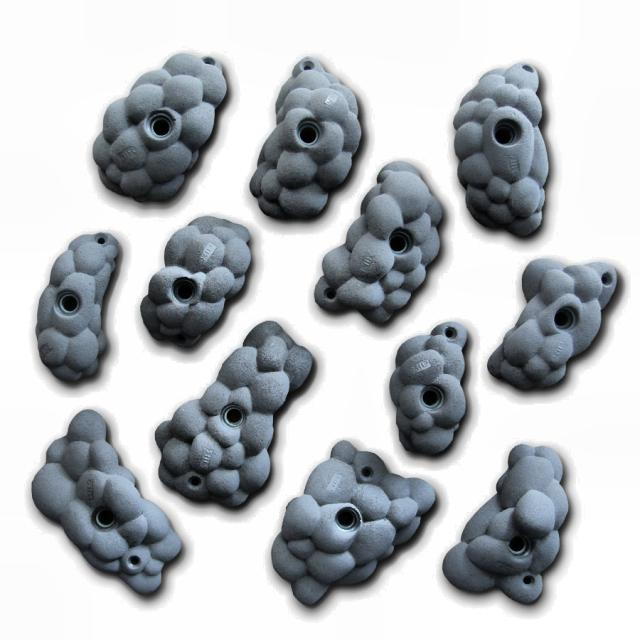Hold: (155, 324, 316, 504), (29, 412, 184, 598), (269, 444, 432, 605), (314, 156, 439, 326), (445, 438, 566, 612), (95, 48, 227, 197), (448, 57, 552, 242), (489, 257, 623, 391), (254, 56, 358, 217), (138, 228, 252, 352), (372, 327, 469, 452), (42, 228, 114, 378)
